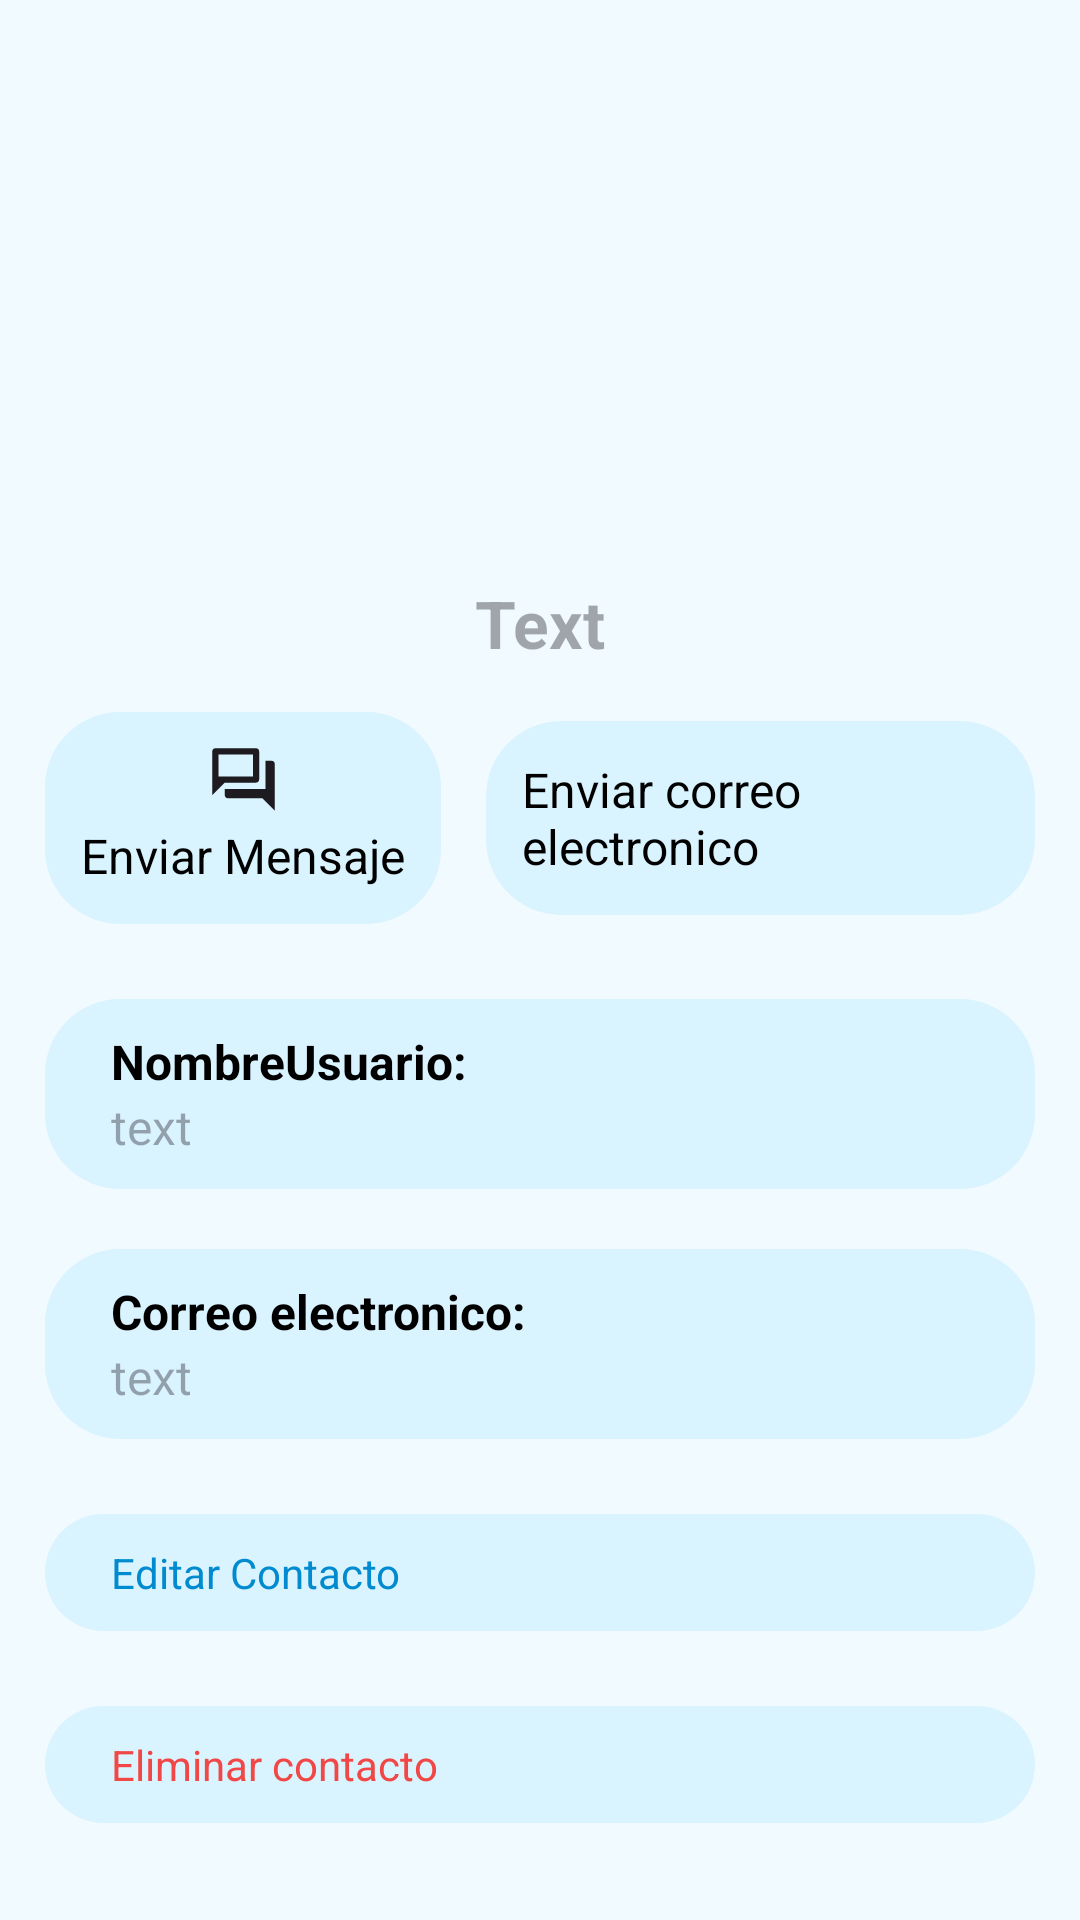

Icons on this 1080w x 1920h Android screen, each with its box as bbox=[x1, y1, x2, y2]:
chat: bbox=[212, 748, 275, 811]
